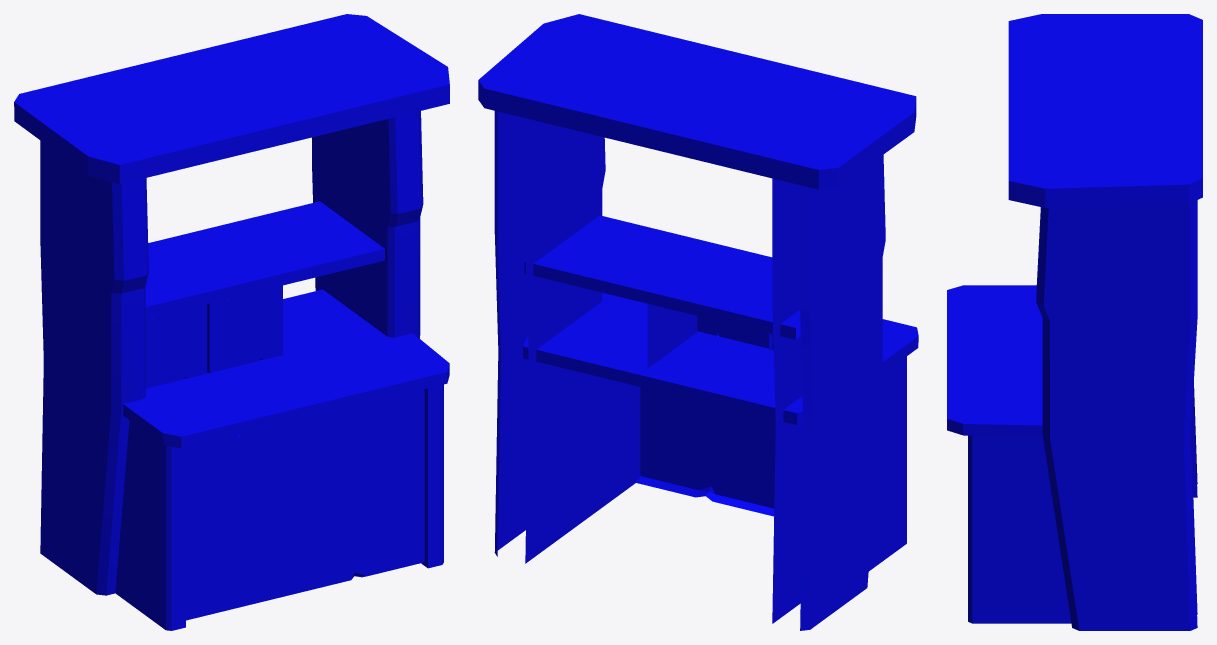
The model's file is CastingRoom_Shelf (1).fbx.
3 renders of one model, left to right at view 1: azimuth 30°, elevation 25°; view 2: azimuth 150°, elevation 25°; view 3: azimuth 270°, elevation 25°, orthographic. The views are drawn at different scales.
Parts seen in each view (by area): view 1: CastingRoom_Shelf; view 2: CastingRoom_Shelf; view 3: CastingRoom_Shelf.
Part boxes in pixels (x1,y1,x2,y2): CastingRoom_Shelf: (14, 14, 449, 630); CastingRoom_Shelf: (478, 14, 918, 630); CastingRoom_Shelf: (947, 14, 1202, 630).
Bounding box in the file's own units: 998 × 1210 × 617.
